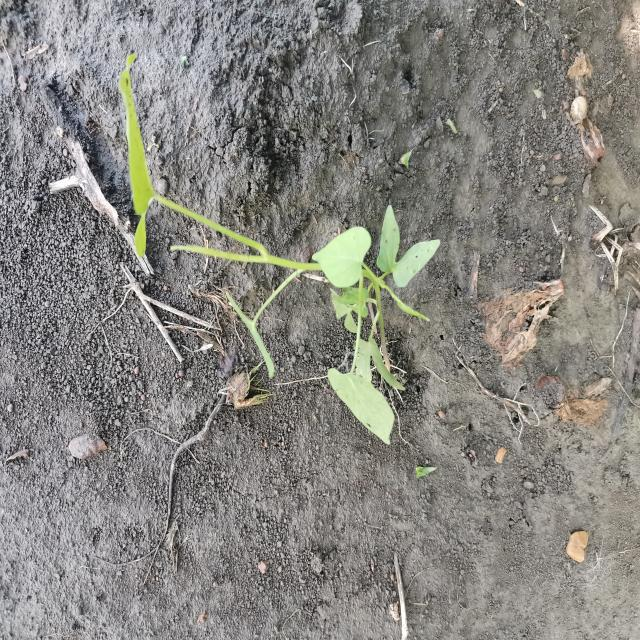MorningGlory: (117, 48, 444, 448)
